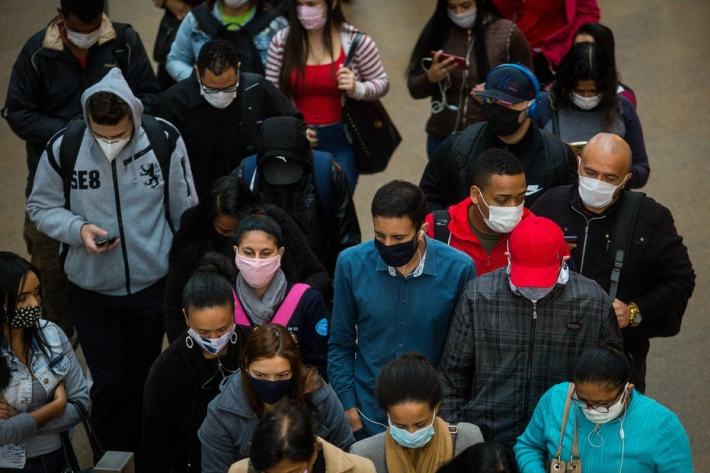with_mask: (463, 154, 530, 236), (472, 66, 548, 138), (569, 134, 636, 209), (385, 363, 440, 452), (238, 336, 305, 404), (369, 192, 427, 269), (183, 286, 237, 359), (80, 93, 137, 159), (232, 225, 287, 289), (562, 47, 612, 111), (195, 48, 243, 108), (1, 268, 45, 328)
